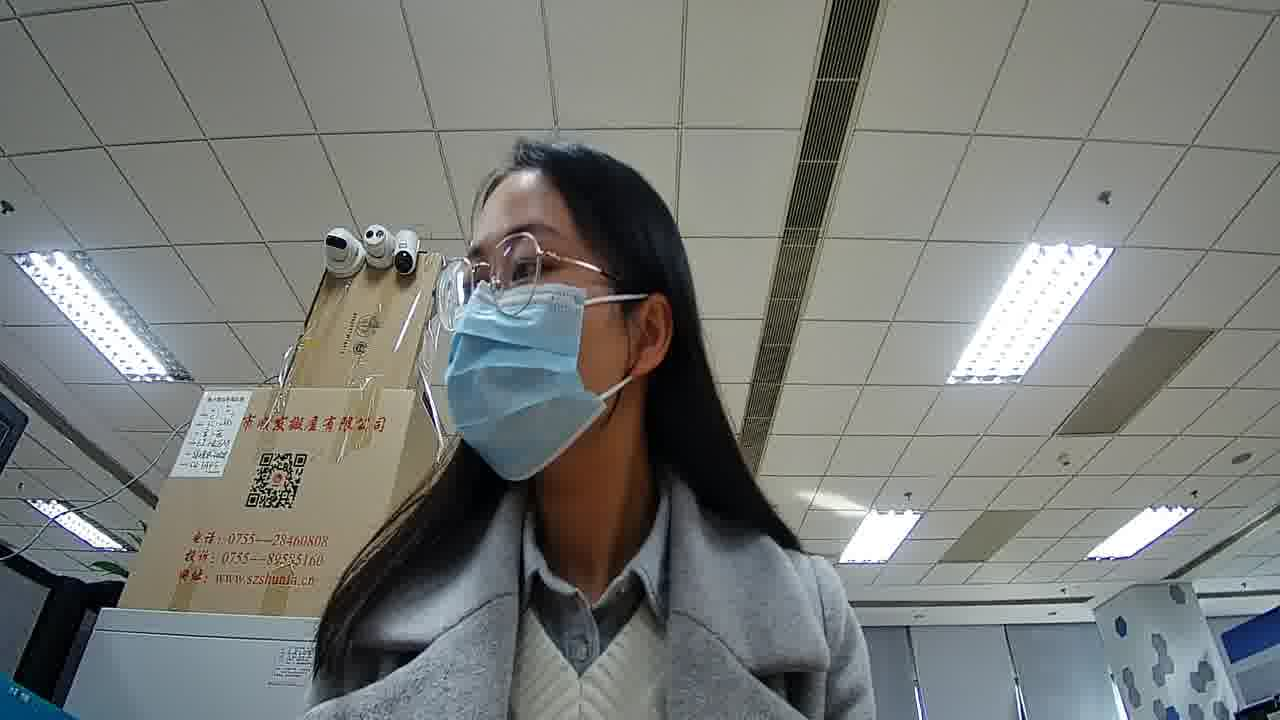face: (430, 156, 630, 461)
mask: (438, 281, 612, 485)
person: (358, 101, 844, 719)
